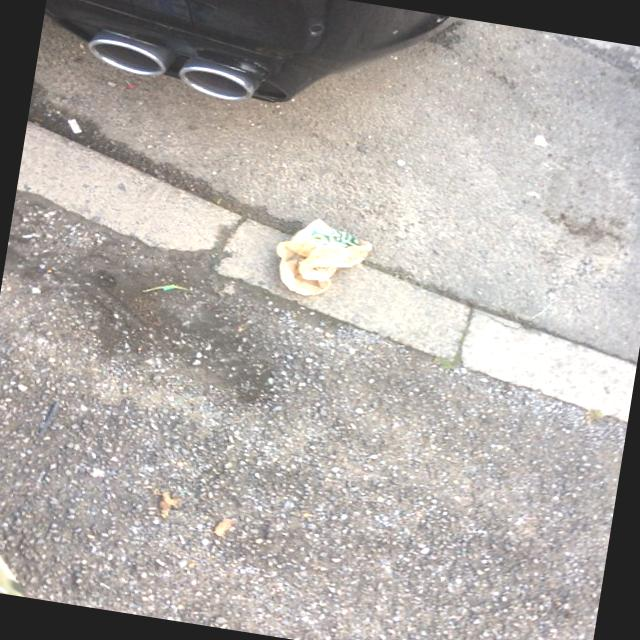Trash: (268, 209, 377, 305)
